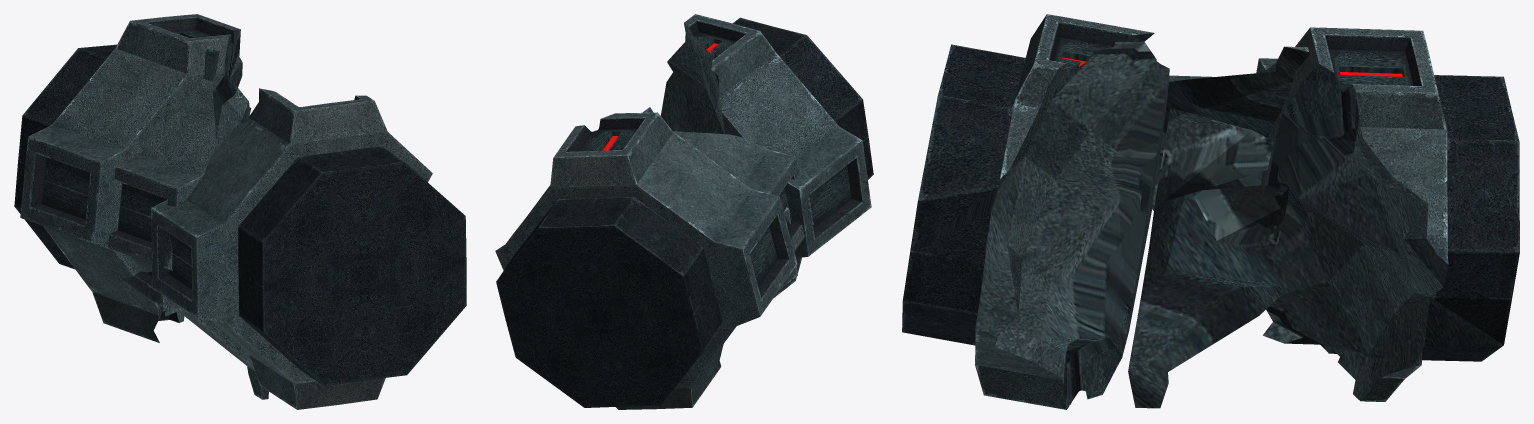
File: DamagedCable2.fbx
3 views of the same model, side by side, from view 1: azimuth 30°, elevation 25°; view 2: azimuth 150°, elevation 25°; view 3: azimuth 270°, elevation 25° (orthographic). The views are drawn at different scales.
Visible parts, largest first — view 1: SampleCable.017; view 2: SampleCable.017; view 3: SampleCable.017.
Boxes of the visible parts, left/top/right/bottom form: SampleCable.017: left=14, top=14, right=466, bottom=409; SampleCable.017: left=495, top=14, right=873, bottom=409; SampleCable.017: left=902, top=14, right=1519, bottom=409.
Size of the model in its own units: 122 by 134 by 192.
Materials: 2 (1 with a texture image).
